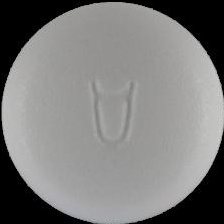35356-922: (0, 0, 224, 224)
